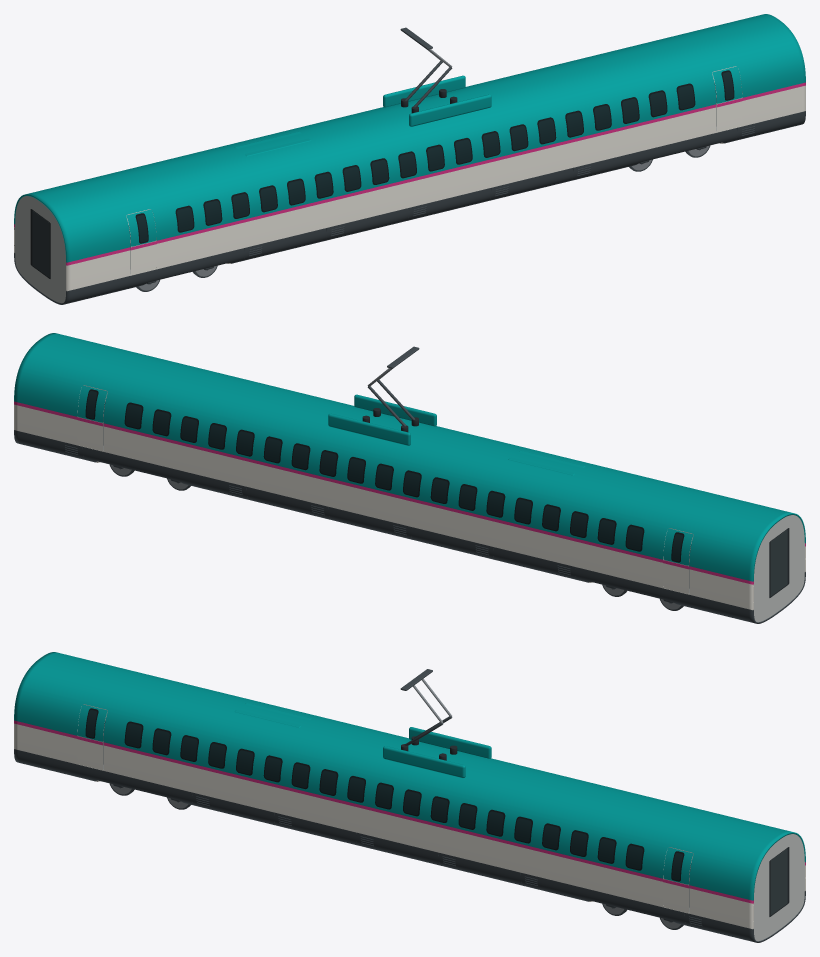
File: express-long-middlePantograph.glb
3 views of the same model, one above another, from view 1: azimuth 30°, elevation 25°; view 2: azimuth 150°, elevation 25°; view 3: azimuth 330°, elevation 25° (orthographic).
Parts seen in each view (by area): view 1: body, door_right_front, door_right_rear; view 2: body, door_left_front, door_left_rear; view 3: body, door_right_rear, door_right_front.
Boxes of the visible parts, x1,y1,x2,y2 form: body: [14, 14, 805, 304]; door_right_front: [712, 66, 742, 132]; door_right_rear: [126, 209, 156, 275]; body: [14, 333, 805, 623]; door_left_front: [77, 385, 107, 451]; door_left_rear: [663, 528, 693, 594]; body: [14, 652, 805, 942]; door_right_rear: [77, 704, 107, 770]; door_right_front: [663, 847, 693, 913].
Bounding box in the file's own units: 27 × 6.12 × 3.42.
